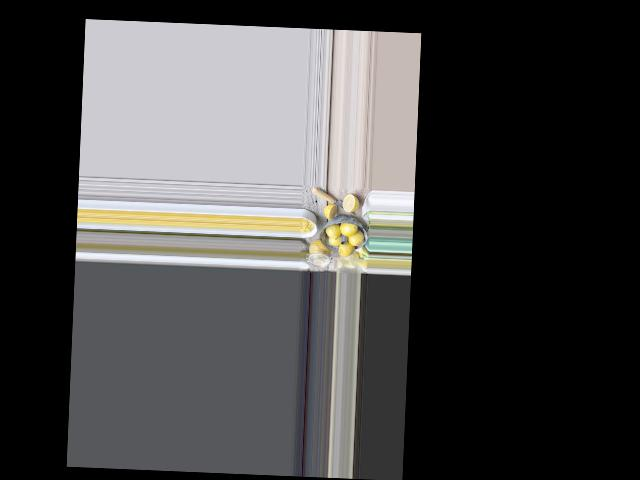lemon: (325, 223, 340, 239)
